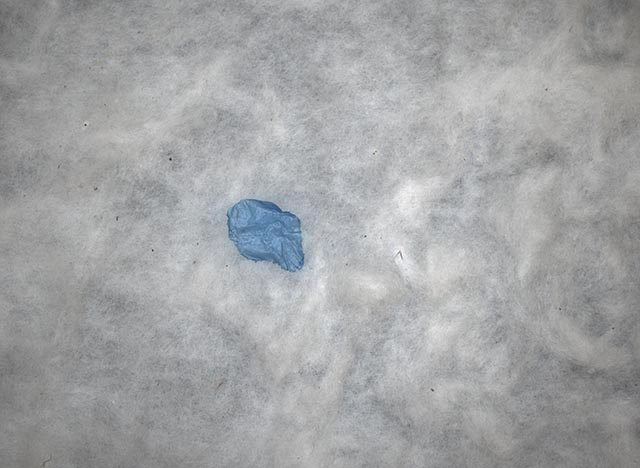plastic film: (226, 198, 305, 274)
